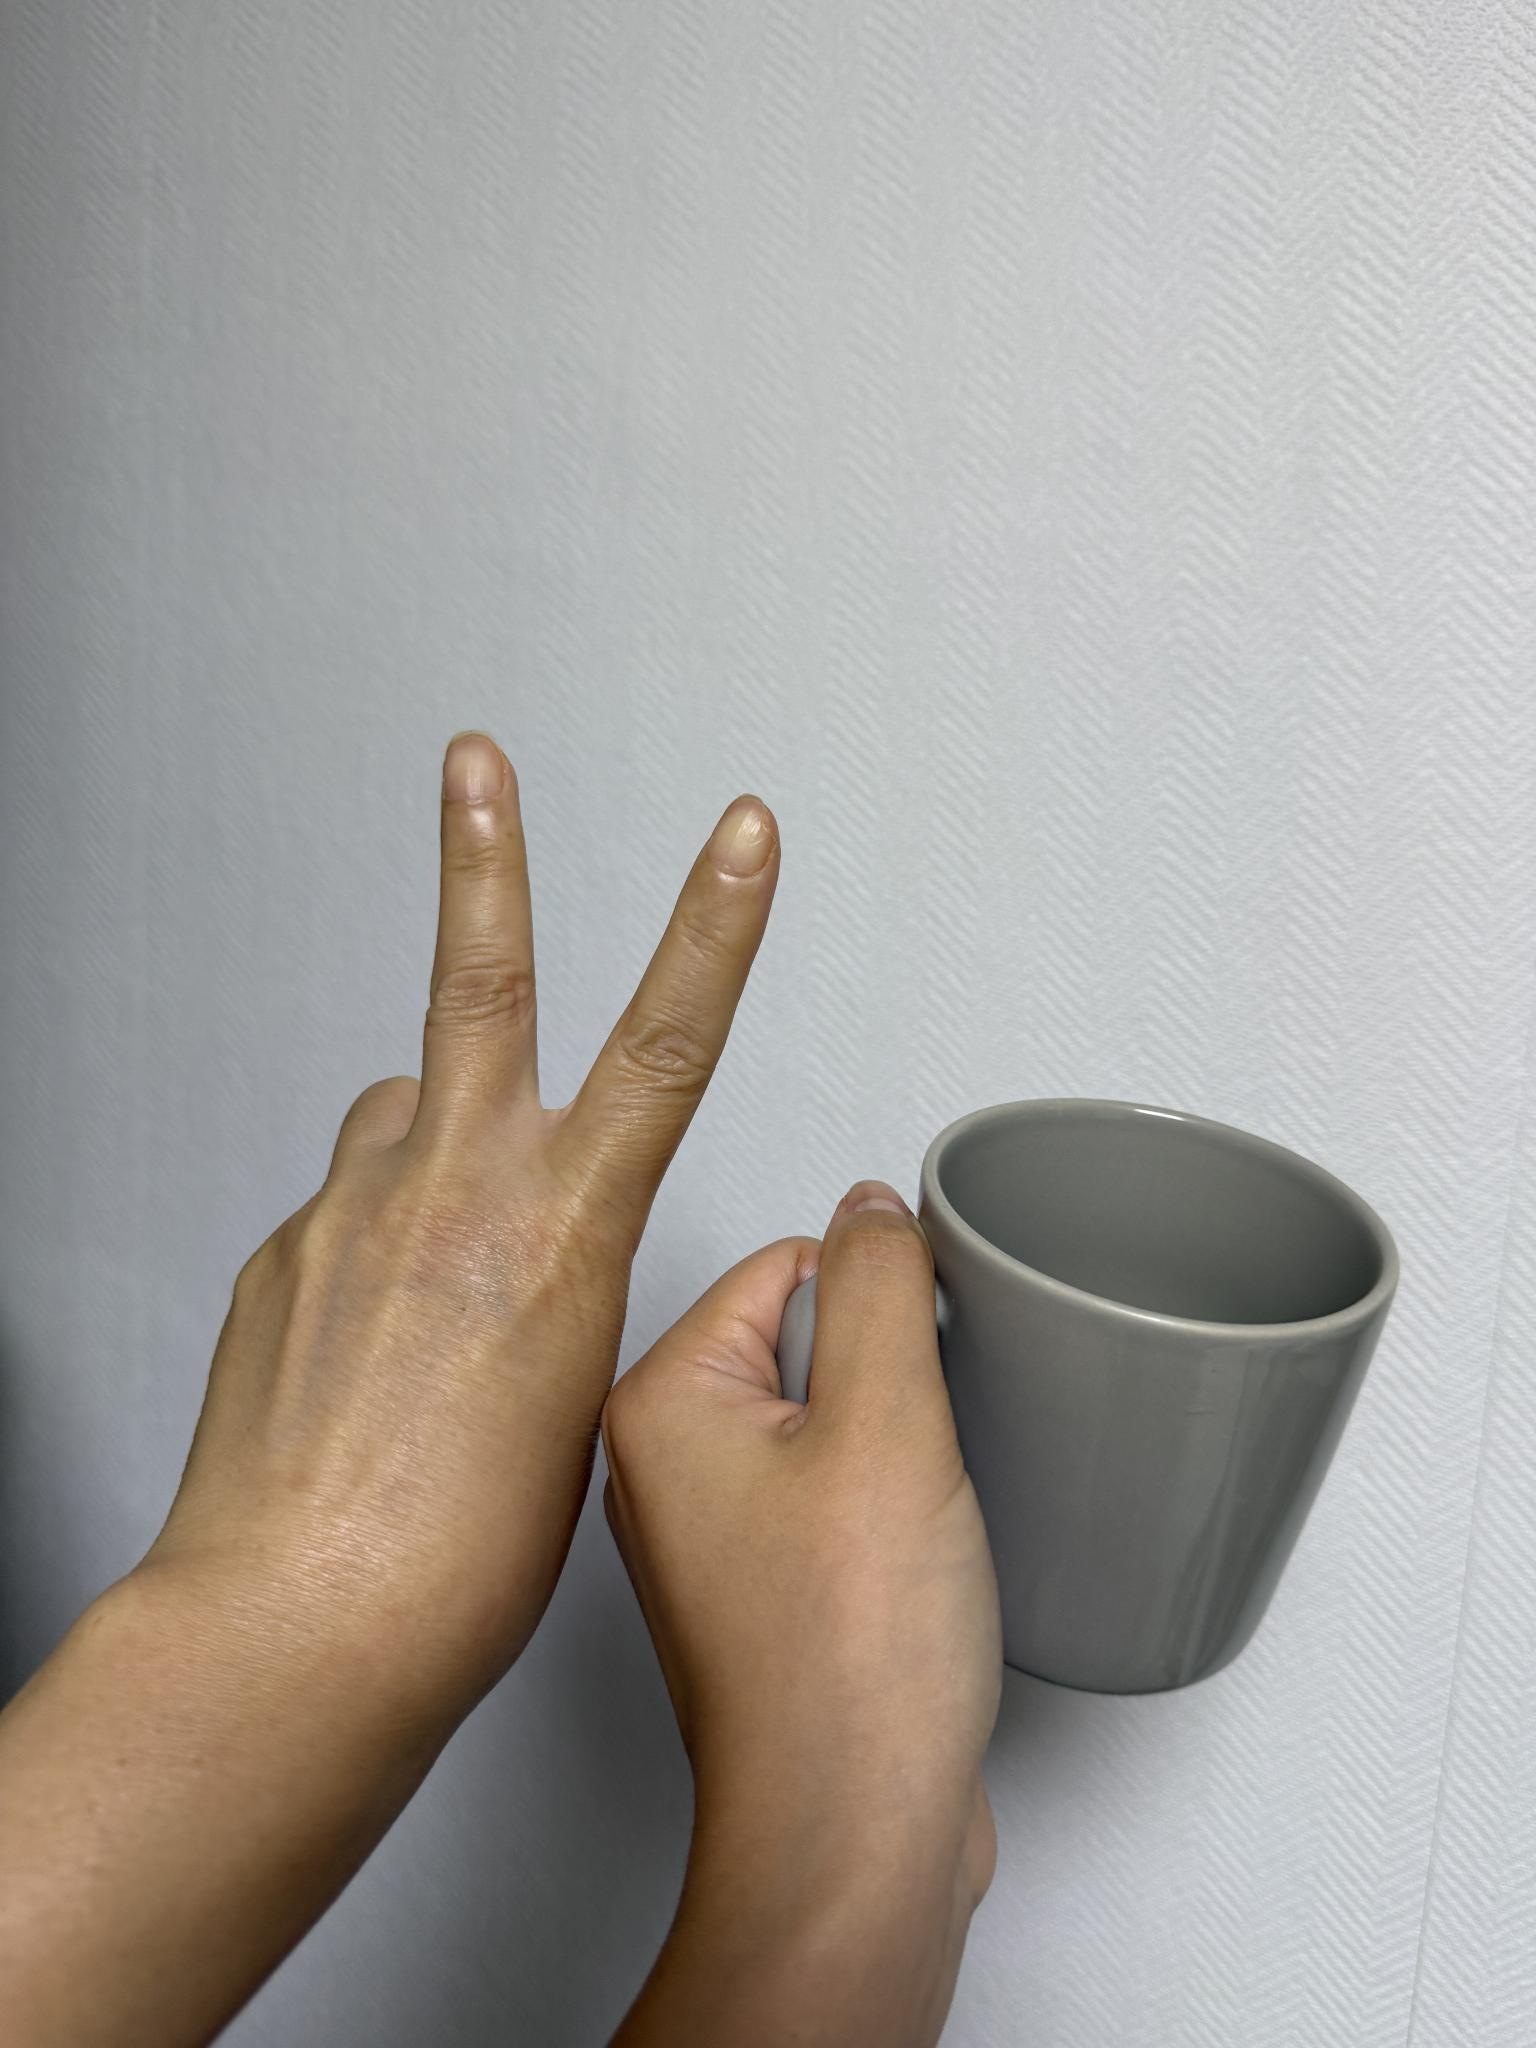cup: (587, 1080, 1425, 2048)
v: (136, 706, 776, 1806)
